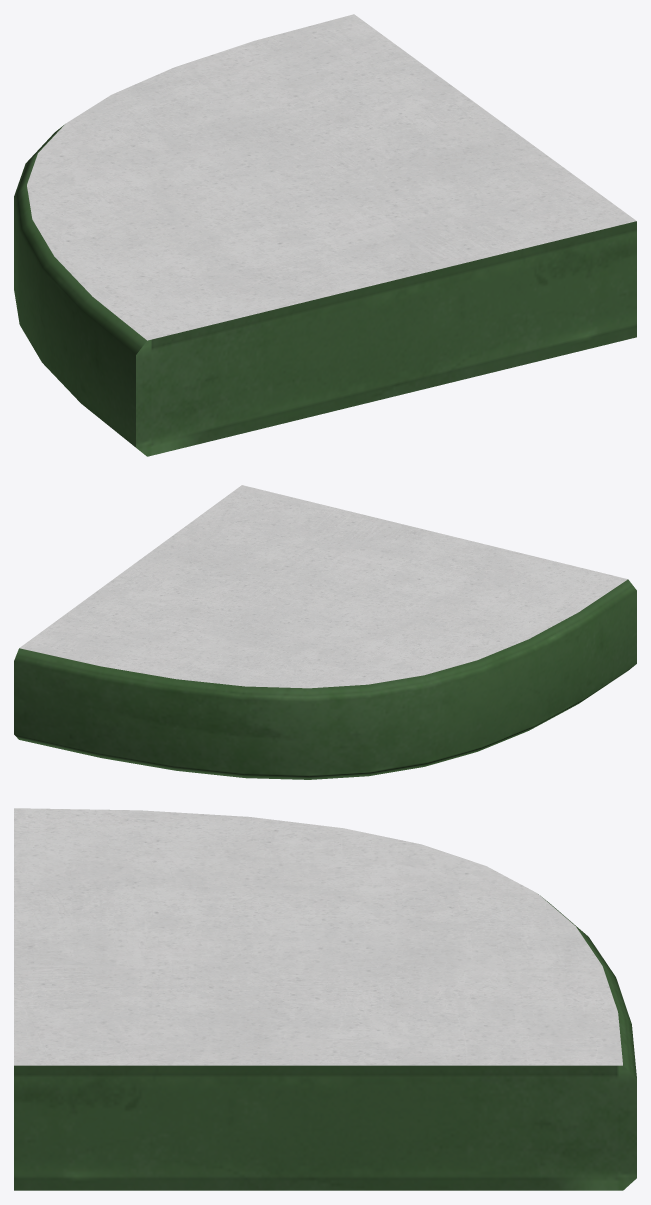
File: MB_Molding_D_Angle_02.fbx
The picture shows the model from 3 angles, top to bottom: view 1: azimuth 30°, elevation 25°; view 2: azimuth 150°, elevation 25°; view 3: azimuth 270°, elevation 25°; orthographic projection. The views are drawn at different scales.
Visible parts, largest first — view 1: MB_Molding_Angle_D_02; view 2: MB_Molding_Angle_D_02; view 3: MB_Molding_Angle_D_02.
Part boxes in pixels (x1=…): MB_Molding_Angle_D_02: x1=14, y1=14, x2=636, y2=456; MB_Molding_Angle_D_02: x1=14, y1=485, x2=636, y2=779; MB_Molding_Angle_D_02: x1=14, y1=808, x2=636, y2=1190.
Size of the model in its own units: 113 by 25 by 113.
